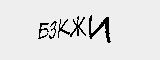Б: (35, 19, 49, 42)
Ж: (69, 13, 87, 41)
З: (46, 18, 57, 41)
И: (87, 15, 113, 44)
К: (56, 16, 71, 40)
